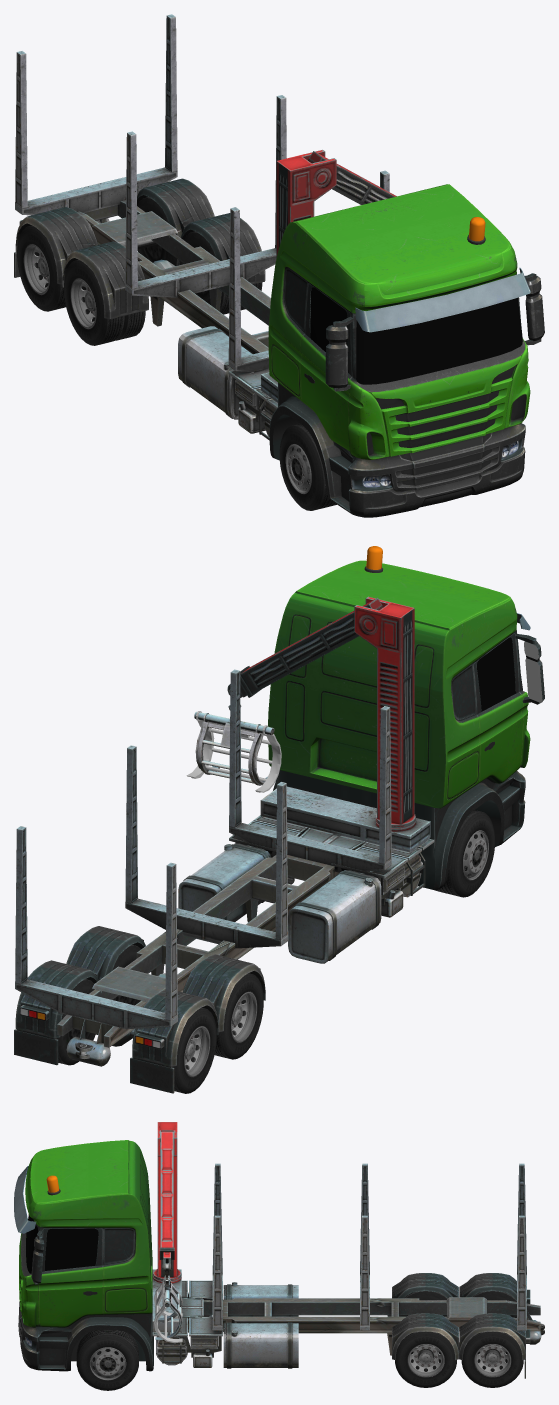
File: hq-logging-truck.glb
The picture shows the model from 3 angles, top to bottom: view 1: azimuth 30°, elevation 25°; view 2: azimuth 150°, elevation 25°; view 3: azimuth 270°, elevation 25°; orthographic projection. The views are drawn at different scales.
Visible parts, largest first — view 1: cabin_low, Object361_chassis_material_0, Object360_glass_beffio_0, crane_arm1, tire01_1, tire_1, tire01_3, brat2, chrome01_1, chrome01_3, chrome_1, tire01_2 (+1 smaller); view 2: Object361_chassis_material_0, cabin_low, crane_arm1, chassis_cr, brat2, tire_1, Object360_glass_beffio_0, tire01_1, tire01_3, claw2, model, chrome_1 (+4 smaller); view 3: Object361_chassis_material_0, cabin_low, Object360_glass_beffio_0, tire, tire01_2, tire01, brat2, crane_arm1, chrome01_2, chrome01, chrome, chassis_cr (+4 smaller).
Part boxes in pixels (x1=…): cabin_low: x1=268, y1=184, x2=544, y2=517; Object361_chassis_material_0: x1=14, y1=14, x2=389, y2=440; Object360_glass_beffio_0: x1=310, y1=287, x2=522, y2=384; crane_arm1: x1=276, y1=149, x2=336, y2=258; tire01_1: x1=64, y1=259, x2=145, y2=345; tire_1: x1=279, y1=423, x2=336, y2=510; tire01_3: x1=17, y1=225, x2=65, y2=311; brat2: x1=308, y1=151, x2=396, y2=204; chrome01_1: x1=70, y1=278, x2=96, y2=328; chrome01_3: x1=23, y1=244, x2=49, y2=294; chrome_1: x1=285, y1=444, x2=311, y2=493; tire01_2: x1=137, y1=197, x2=180, y2=265; Object361_chassis_material_0: x1=14, y1=669, x2=434, y2=1093; cabin_low: x1=268, y1=560, x2=544, y2=889; crane_arm1: x1=354, y1=596, x2=415, y2=828; chassis_cr: x1=260, y1=786, x2=430, y2=852; brat2: x1=240, y1=597, x2=382, y2=697; tire_1: x1=434, y1=810, x2=494, y2=897; Object360_glass_beffio_0: x1=477, y1=637, x2=522, y2=711; tire01_1: x1=214, y1=973, x2=263, y2=1059; tire01_3: x1=171, y1=1007, x2=216, y2=1093; claw2: x1=195, y1=713, x2=267, y2=785; model: x1=186, y1=711, x2=281, y2=792; chrome_1: x1=463, y1=830, x2=488, y2=880; Object361_chassis_material_0: x1=152, y1=1163, x2=544, y2=1378; cabin_low: x1=14, y1=1140, x2=153, y2=1371; Object360_glass_beffio_0: x1=26, y1=1214, x2=98, y2=1273; tire: x1=76, y1=1330, x2=138, y2=1390; tire01_2: x1=461, y1=1331, x2=523, y2=1387; tire01: x1=395, y1=1331, x2=456, y2=1387; brat2: x1=159, y1=1131, x2=174, y2=1259; crane_arm1: x1=153, y1=1122, x2=181, y2=1280; chrome01_2: x1=474, y1=1344, x2=510, y2=1376; chrome01: x1=407, y1=1344, x2=444, y2=1376; chrome: x1=89, y1=1347, x2=126, y2=1380; chassis_cr: x1=152, y1=1269, x2=181, y2=1332.
Bounding box in the file's own units: 3.48 × 3.99 × 8.7.
Materials: 13 (8 with a texture image).
